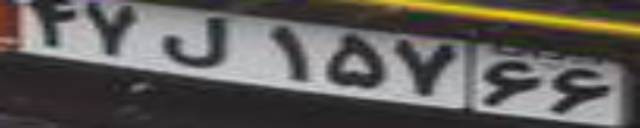1: (264, 24, 308, 81)
4: (29, 0, 77, 46)
5: (322, 34, 386, 88)
6: (547, 66, 612, 114), (476, 59, 540, 105)
7: (391, 39, 457, 95), (84, 2, 138, 55)
lam: (160, 15, 230, 69)
